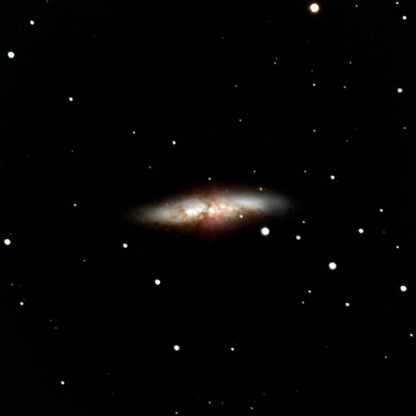Messier 82: (118, 174, 303, 241)
